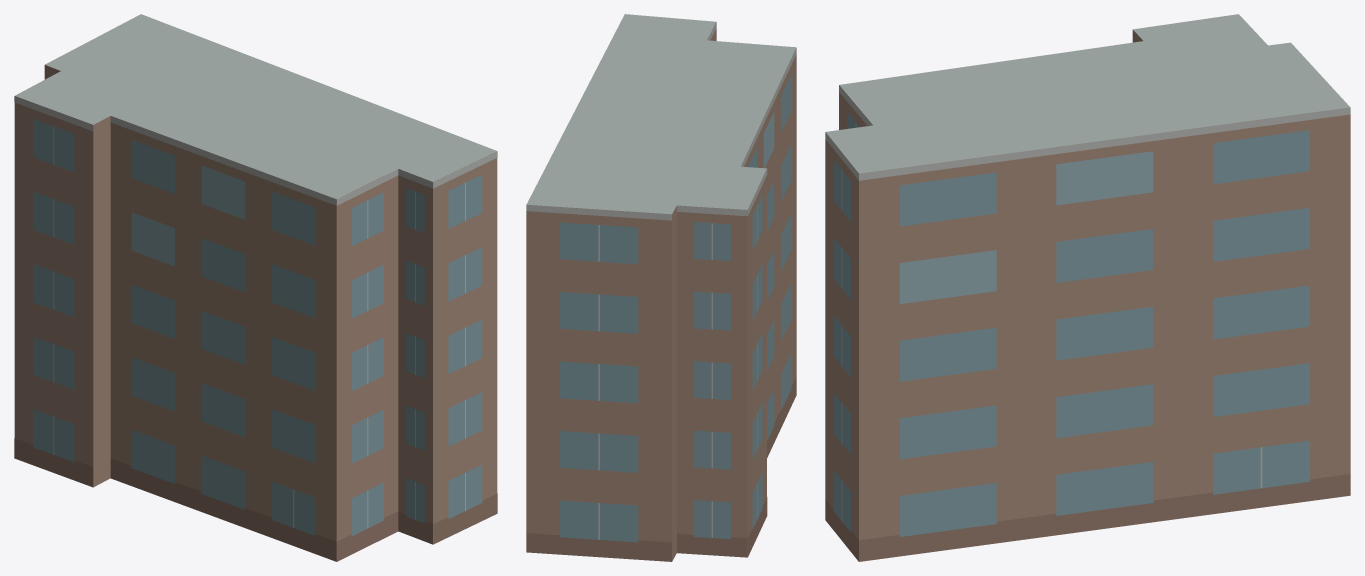
The model's file is survey-upis-32513770.glb.
3 views of the same model, side by side, from view 1: azimuth 30°, elevation 25°; view 2: azimuth 150°, elevation 25°; view 3: azimuth 270°, elevation 25° (orthographic). The views are drawn at different scales.
Parts seen in each view (by area): view 1: survey-upis-32513770.tmp; view 2: survey-upis-32513770.tmp; view 3: survey-upis-32513770.tmp.
Boxes of the visible parts, left/top/right/bottom form: survey-upis-32513770.tmp: left=14, top=14, right=497, bottom=561; survey-upis-32513770.tmp: left=526, top=14, right=796, bottom=561; survey-upis-32513770.tmp: left=825, top=14, right=1350, bottom=561.
Size of the model in its own units: 11.83 by 13.4 by 16.44.
